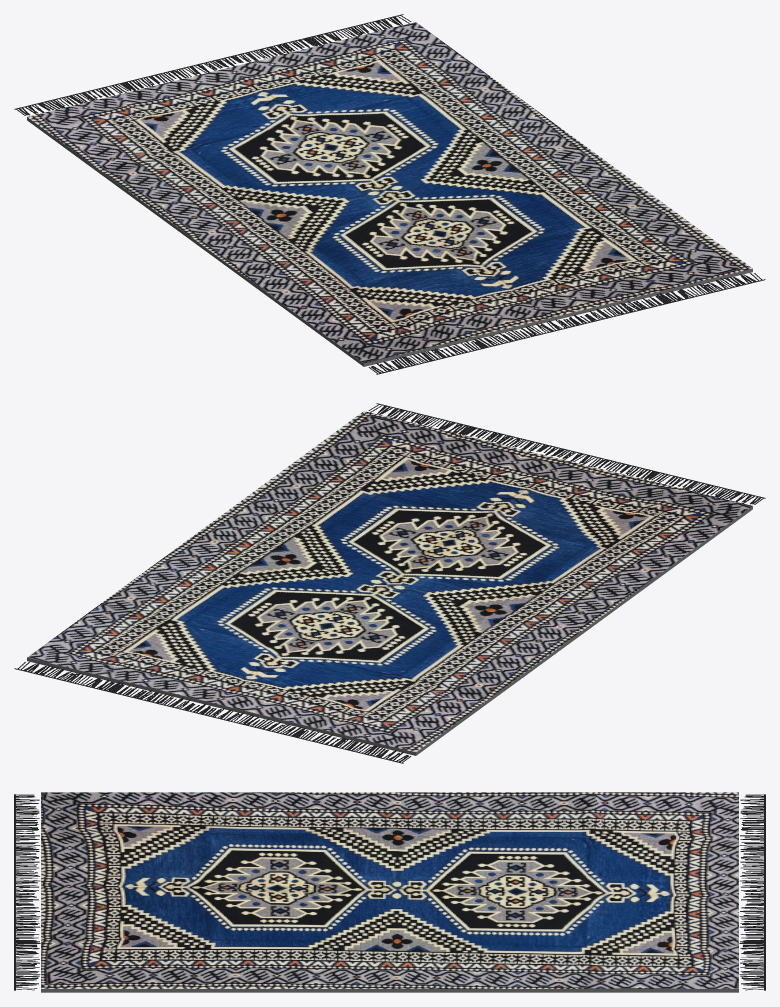
3 views of the same model, one above another, from view 1: azimuth 30°, elevation 25°; view 2: azimuth 150°, elevation 25°; view 3: azimuth 270°, elevation 25° (orthographic). The views are drawn at different scales.
Visible parts, largest first — view 1: rug, fringeB, fringeA, side; view 2: rug, fringeA, fringeB, side; view 3: rug, fringeB, fringeA, side.
Part boxes in pixels (x1=…): rug: x1=27, y1=22, x2=752, y2=363; fringeB: x1=368, y1=273, x2=765, y2=374; fringeA: x1=14, y1=14, x2=411, y2=115; side: x1=27, y1=117, x2=752, y2=366; rug: x1=27, y1=411, x2=752, y2=752; fringeA: x1=14, y1=662, x2=411, y2=763; fringeB: x1=368, y1=403, x2=765, y2=504; side: x1=27, y1=506, x2=752, y2=755; rug: x1=41, y1=792, x2=738, y2=988; fringeB: x1=14, y1=794, x2=40, y2=990; fringeA: x1=739, y1=794, x2=765, y2=990; side: x1=41, y1=989, x2=738, y2=992.
Size of what is drawn, in the model's own units: 1.2 by 0.0102 by 1.94.
2 materials, 2 textured.
